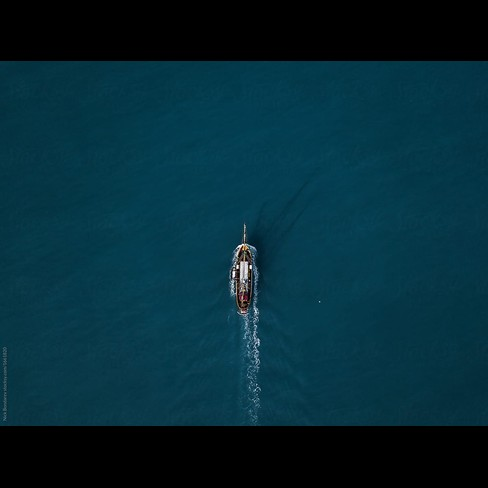boat: (224, 220, 263, 320)
